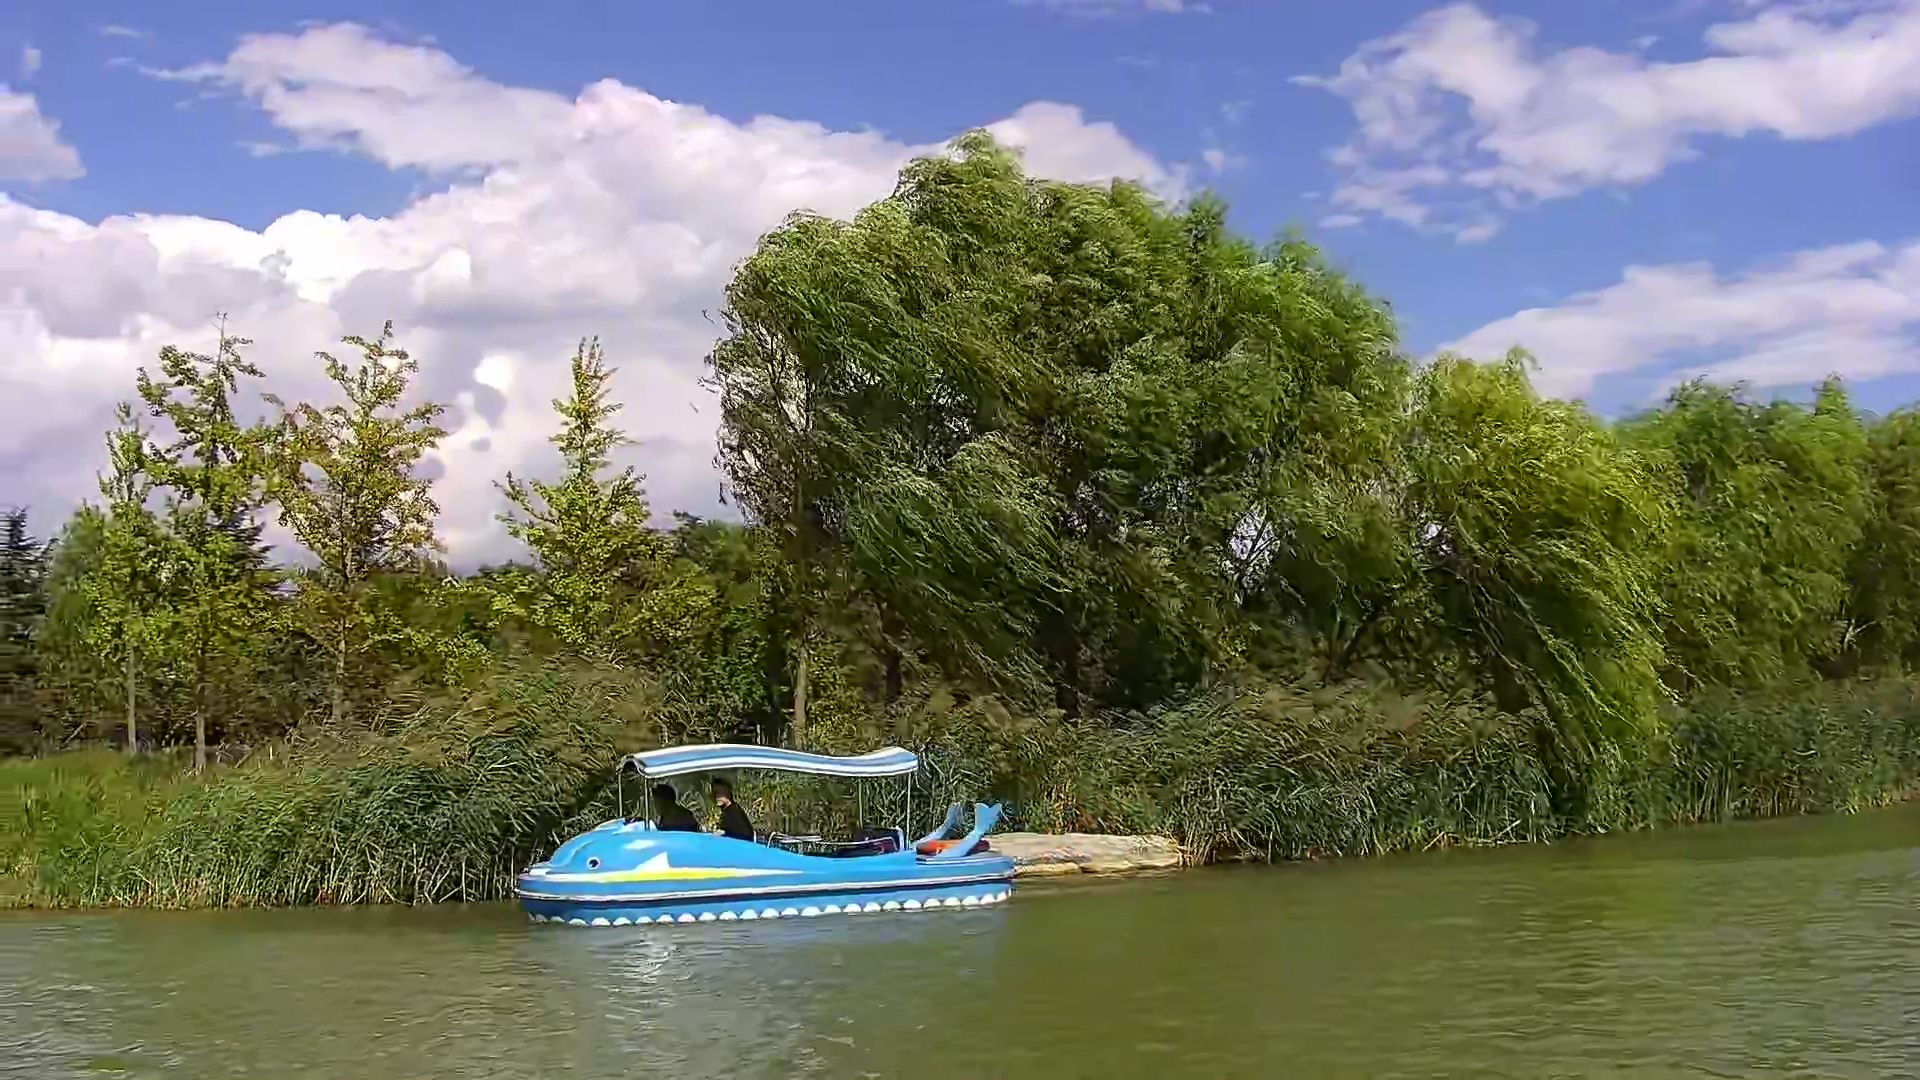boat: (511, 739, 1025, 926)
person: (711, 785, 762, 839), (649, 785, 701, 835)
rock: (1003, 826, 1185, 879)
